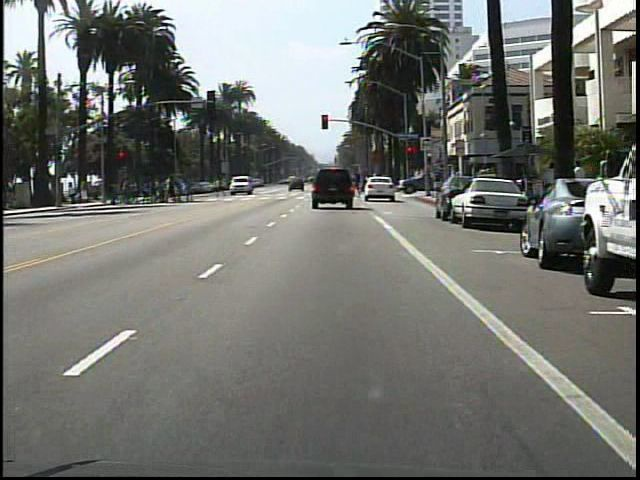person: (541, 156, 563, 217), (568, 155, 587, 212), (211, 172, 231, 201)
